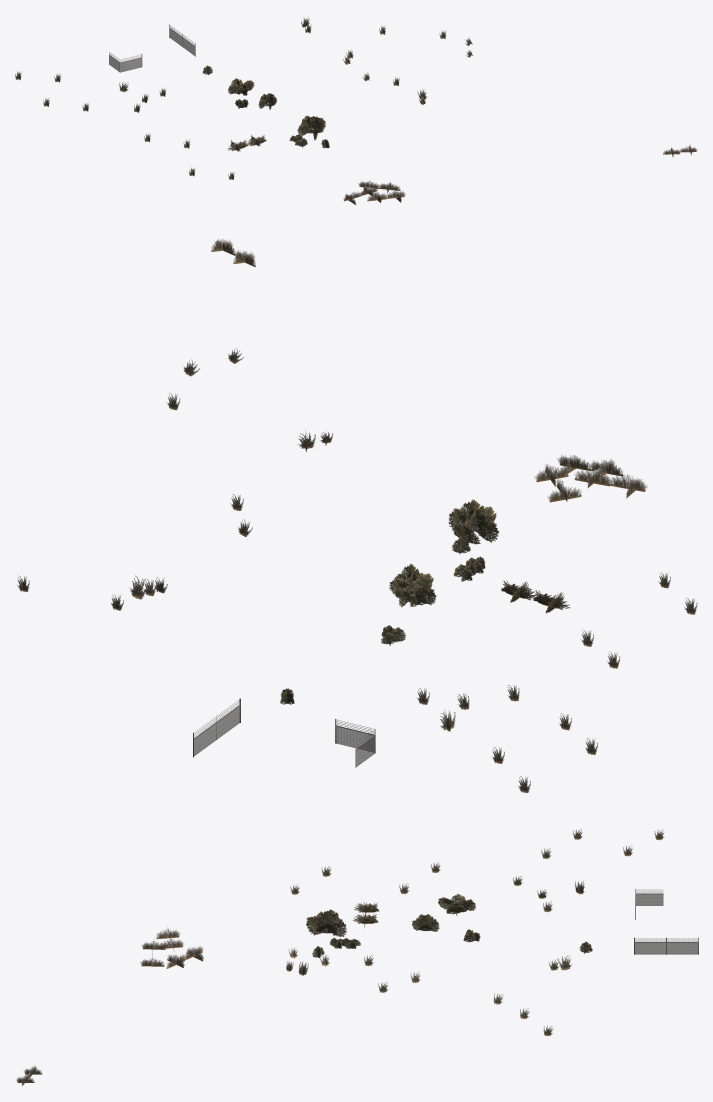
File: 0603worlddeserttransparent_worlddeserttransparentmaterial_0_lev.glb
3 renders of one model, top to bottom at view 1: azimuth 30°, elevation 25°; view 2: azimuth 150°, elevation 25°; view 3: azimuth 270°, elevation 25°, orthographic. The views are drawn at different scales.
Parts seen in each view (by area): view 1: 0603worlddeserttransparent_worlddeserttransparentmaterial_0_; view 2: 0603worlddeserttransparent_worlddeserttransparentmaterial_0_; view 3: 0603worlddeserttransparent_worlddeserttransparentmaterial_0_.
Part boxes in pixels (x1,y1,x2,y2): 0603worlddeserttransparent_worlddeserttransparentmaterial_0_: (15,17,697,204); 0603worlddeserttransparent_worlddeserttransparentmaterial_0_: (17,239,697,792); 0603worlddeserttransparent_worlddeserttransparentmaterial_0_: (16,829,698,1086).
Bounding box in the file's own units: 28.46 × 5 × 30.97.
Materials: 1 (1 with a texture image).
